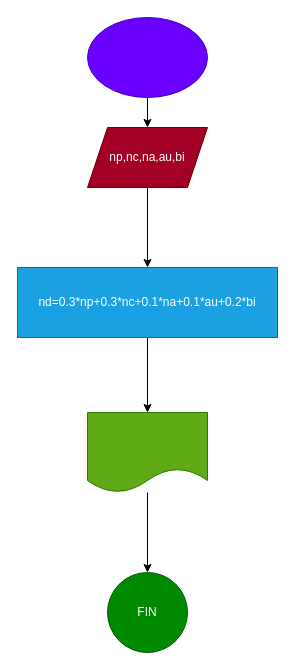
This 295x670 diagram has some shape labels left out. Here are the shapes that lost their labels. From the top down, the centre of each, then its label:
At point 147,57: "INICIO".
At point 147,452: "nd".
